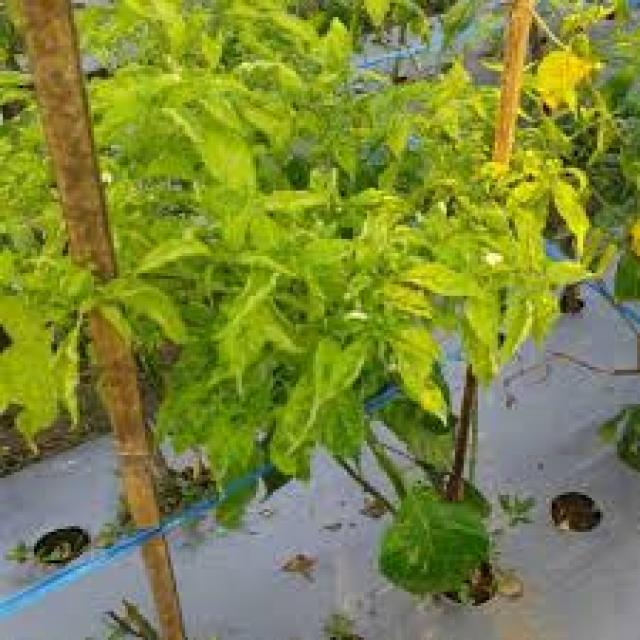virus_kuning: (534, 35, 605, 126), (550, 177, 598, 261), (401, 261, 493, 302)
